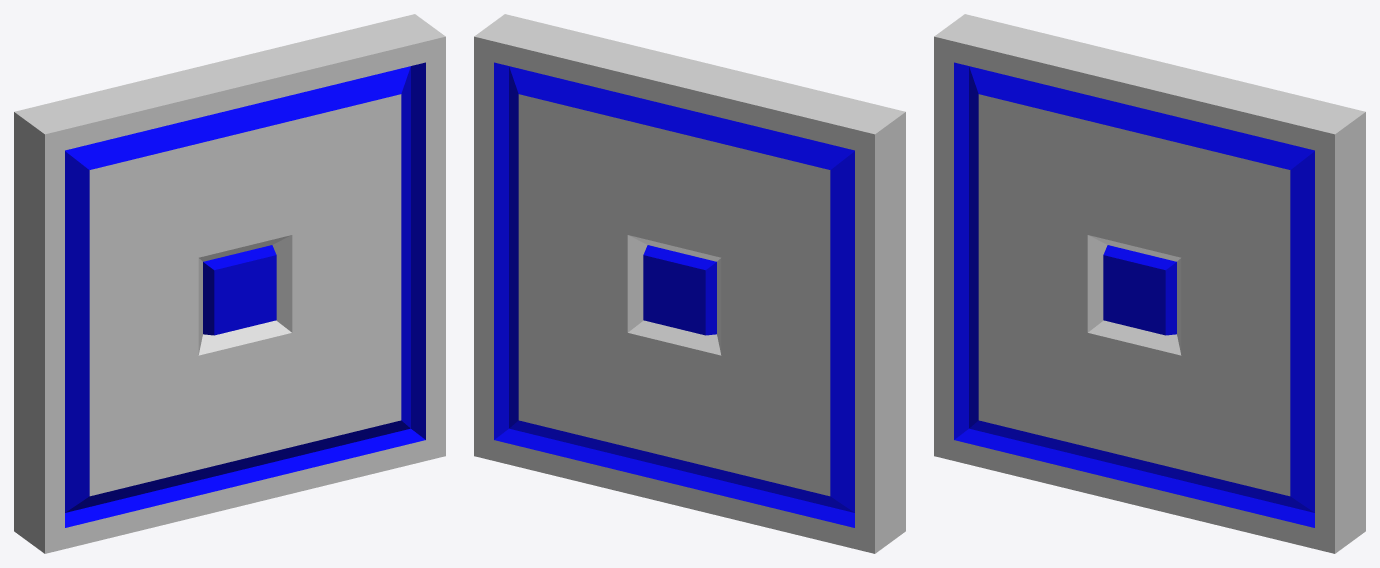
Rendered from Puerta.glb.
3 views of the same model, side by side, from view 1: azimuth 30°, elevation 25°; view 2: azimuth 150°, elevation 25°; view 3: azimuth 330°, elevation 25° (orthographic).
Parts seen in each view (by area): view 1: Puerta; view 2: Puerta; view 3: Puerta.
Boxes of the visible parts, x1=… form: Puerta: x1=14, y1=14, x2=445, y2=553; Puerta: x1=474, y1=14, x2=905, y2=553; Puerta: x1=934, y1=14, x2=1365, y2=553.
Bounding box in the file's own units: 3 × 3 × 0.4.
